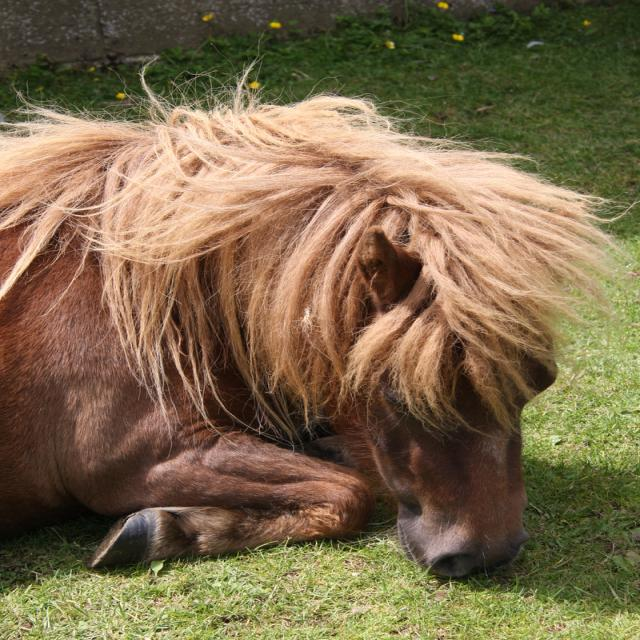Horse: (0, 36, 640, 580)
